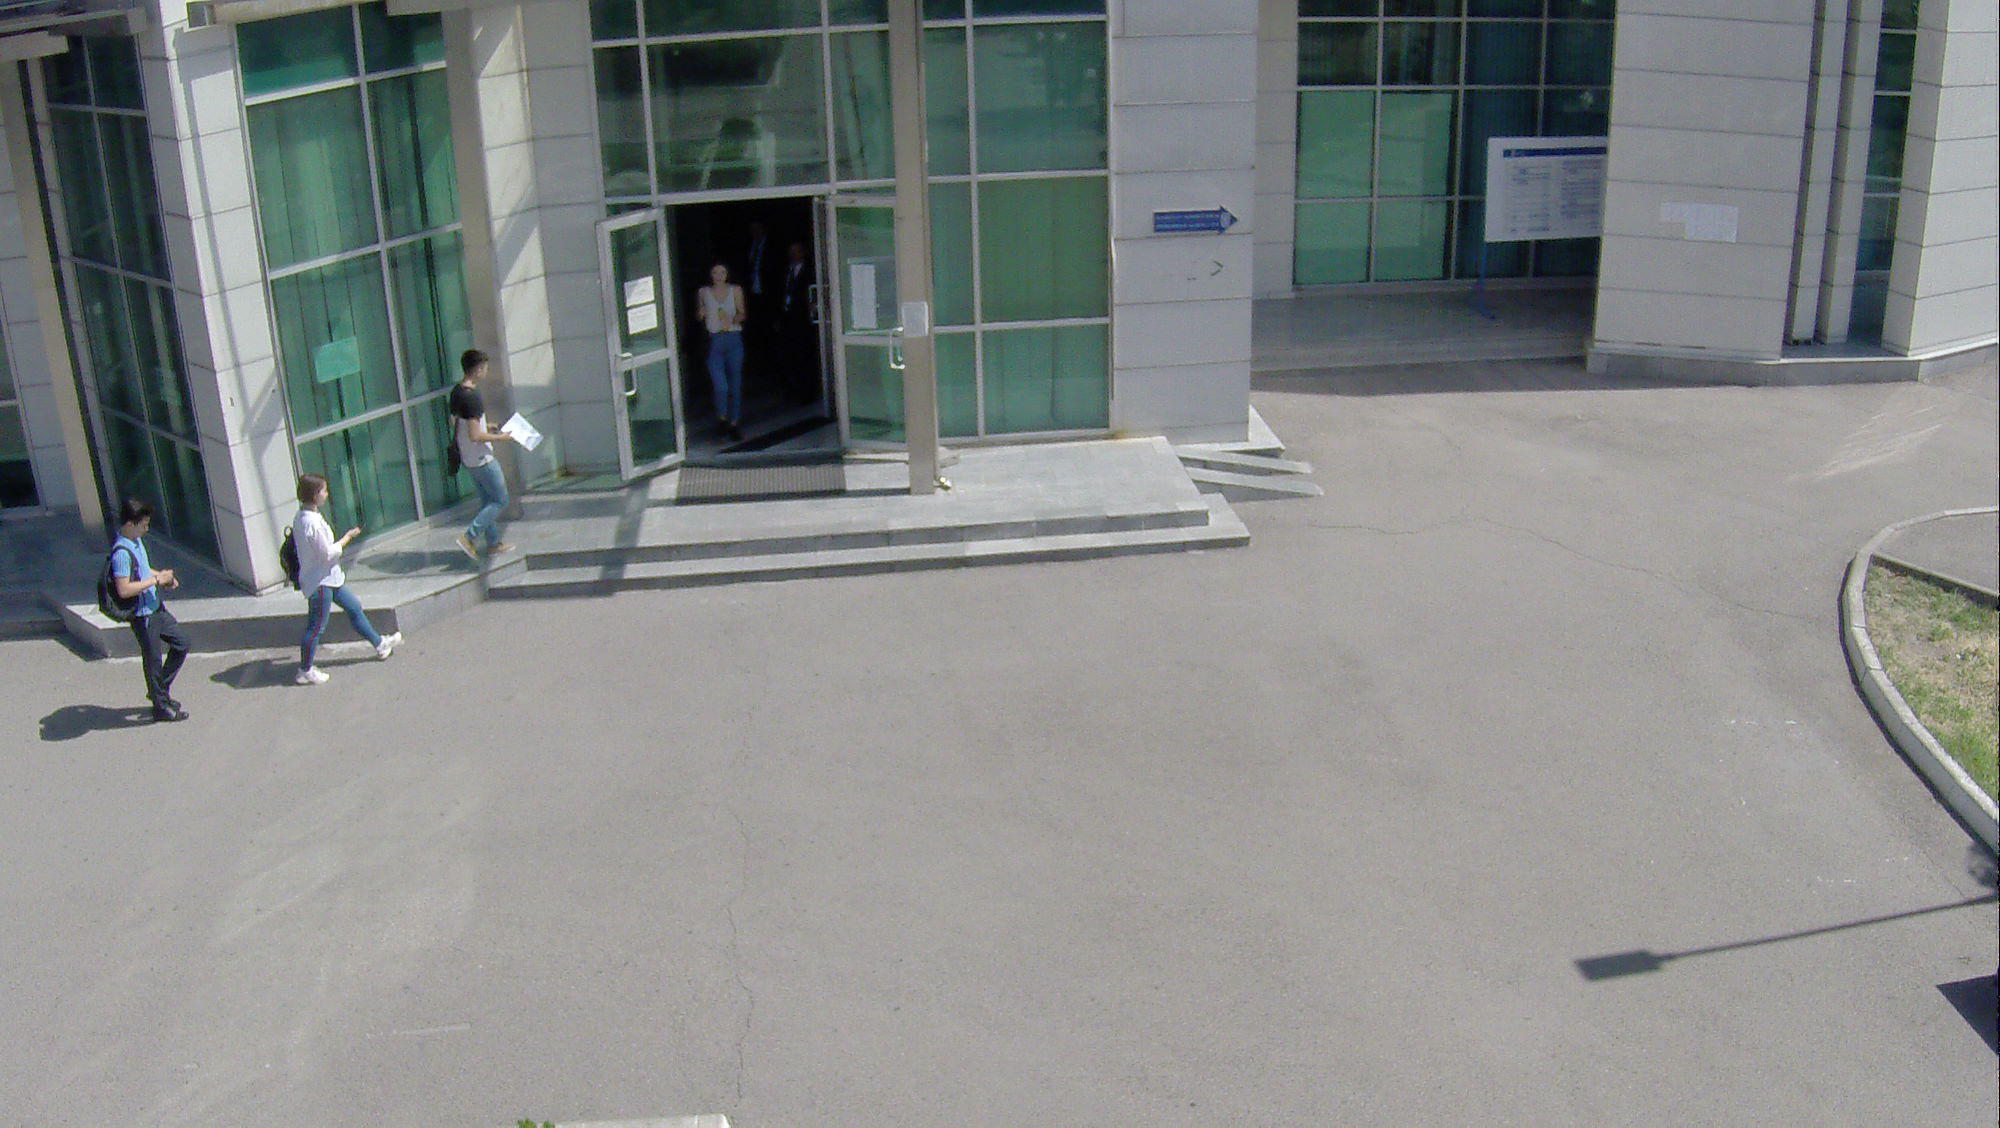person: (280, 470, 407, 699), (432, 349, 549, 580), (91, 501, 195, 733), (693, 260, 753, 449)
